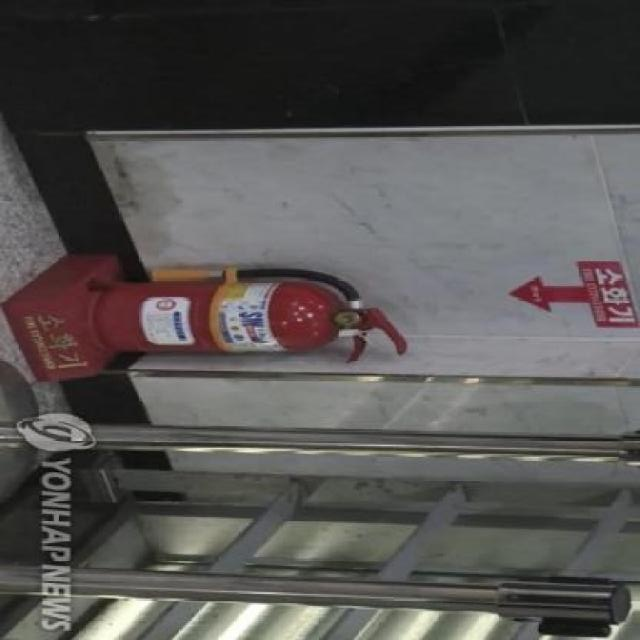fire extinguisher: (95, 267, 408, 364)
